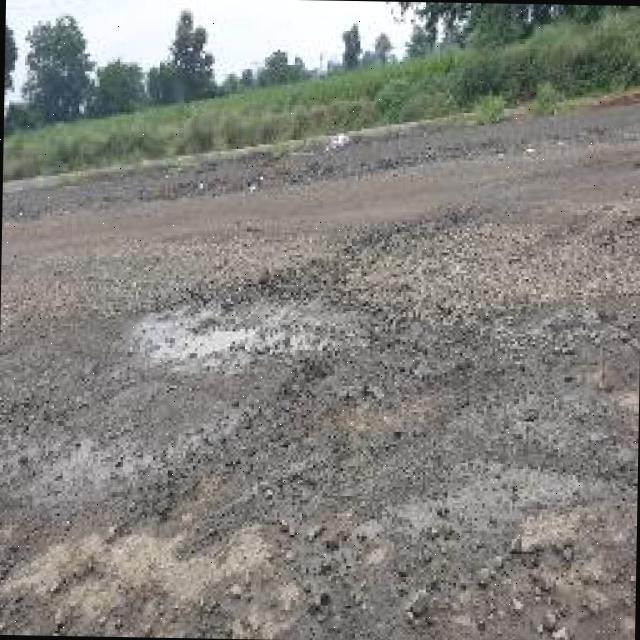stagnation: (113, 255, 403, 392)
